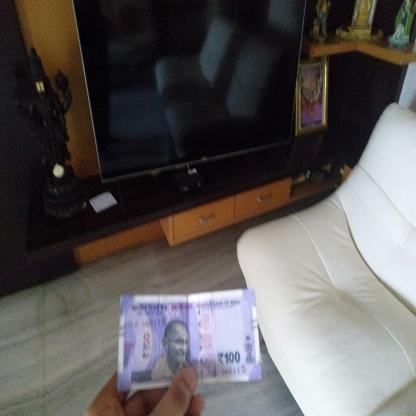New100Front: (121, 296, 256, 388)
